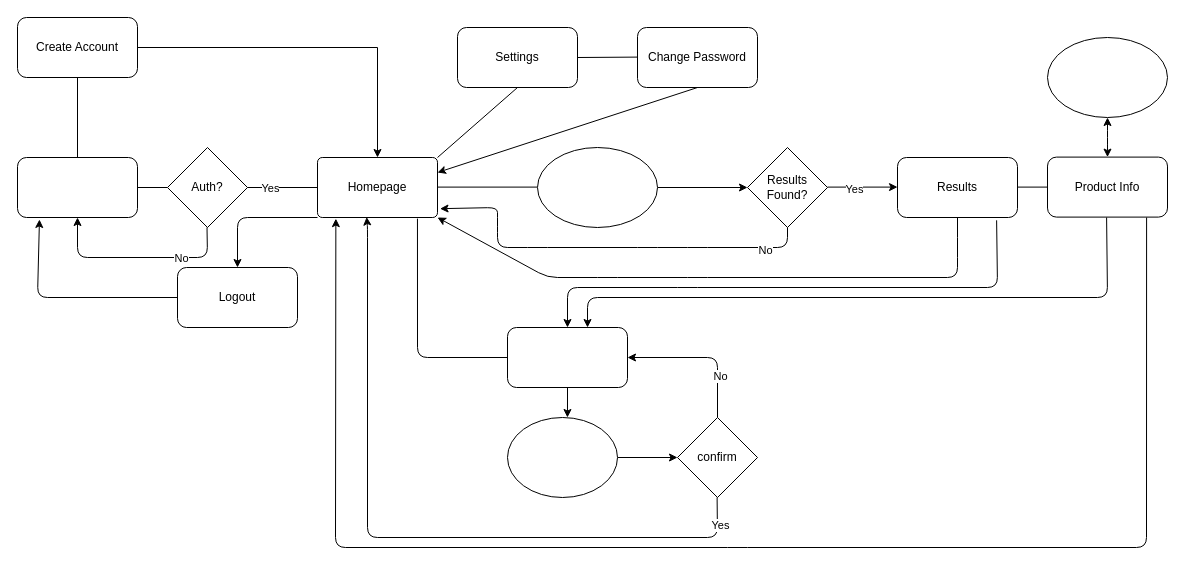
This 1185x573 diagram has some shape labels left out. Here are the shapes that lost their labels. From the top down, the centre of each, then its label:
pixel 1107 77: Add to cart
pixel 77 187: Login
pixel 597 187: Search
pixel 567 357: Cart
pixel 562 457: Checkout
